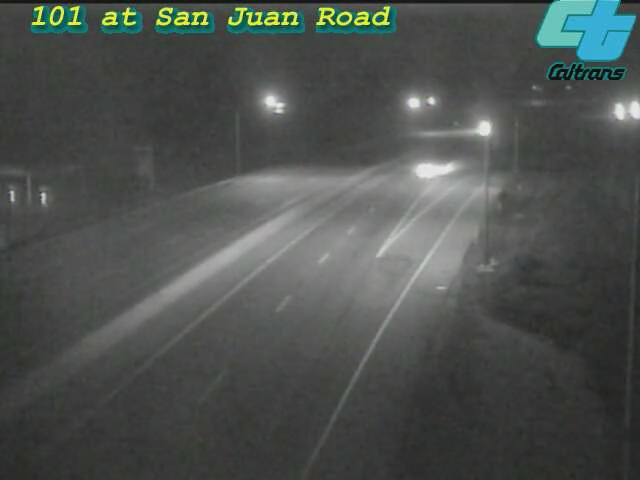vehicle: (389, 128, 469, 208), (459, 103, 509, 153), (596, 87, 640, 137), (606, 83, 640, 133)
